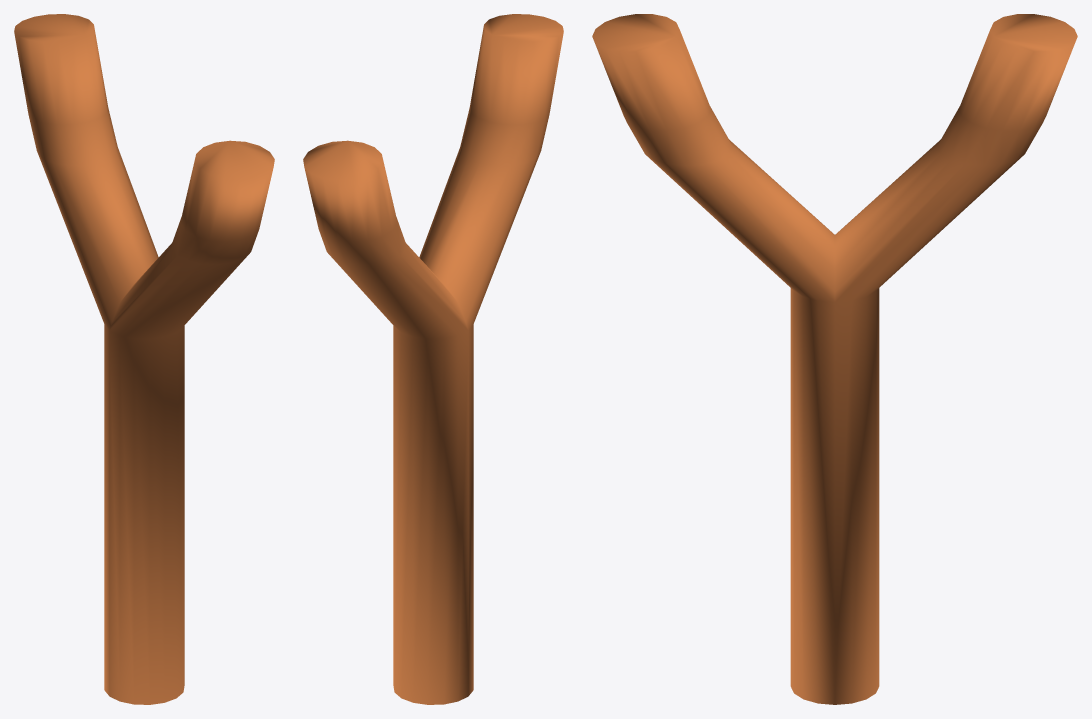
File: weapon_catapult.fbx
3 views of the same model, side by side, from view 1: azimuth 30°, elevation 25°; view 2: azimuth 150°, elevation 25°; view 3: azimuth 270°, elevation 25° (orthographic). The views are drawn at different scales.
Visible parts, largest first — view 1: Cylinder; view 2: Cylinder; view 3: Cylinder.
Part boxes in pixels (bbox=[...]): Cylinder: bbox=[14, 14, 274, 704]; Cylinder: bbox=[303, 14, 563, 704]; Cylinder: bbox=[592, 14, 1077, 704].
Bounding box in the file's own units: 20 × 163 × 109.
